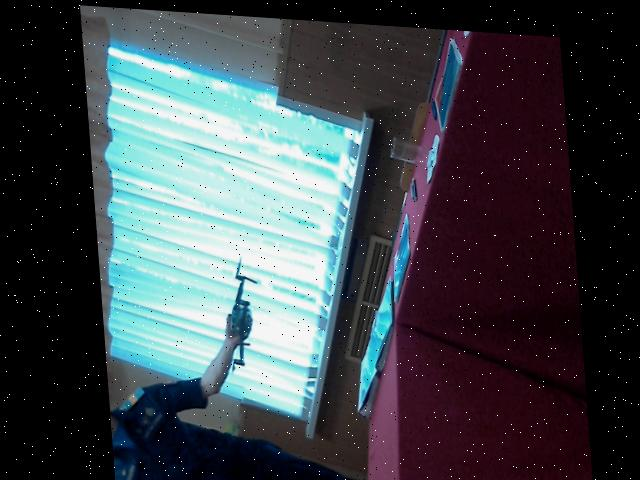drone: (211, 254, 260, 373)
